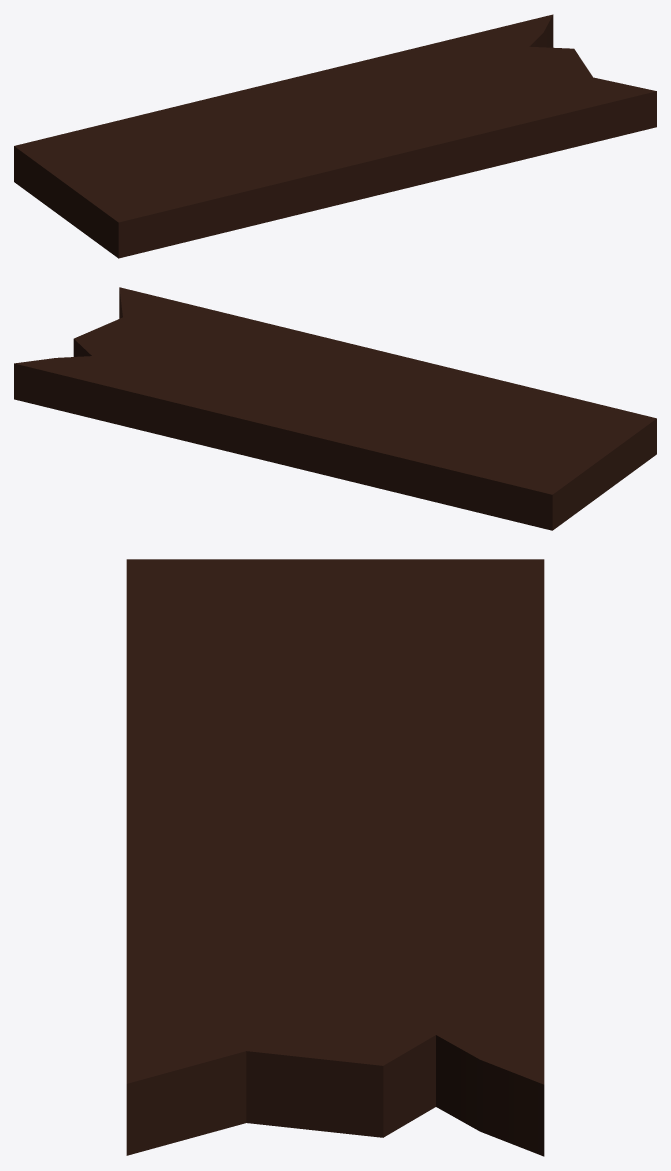
File: WoodenPlank_Broken01.FBX
3 views of the same model, one above another, from view 1: azimuth 30°, elevation 25°; view 2: azimuth 150°, elevation 25°; view 3: azimuth 270°, elevation 25° (orthographic). The views are drawn at different scales.
Visible parts, largest first — view 1: WoodenPlank_Broken; view 2: WoodenPlank_Broken; view 3: WoodenPlank_Broken.
Boxes of the visible parts, bbox=[...] form: WoodenPlank_Broken: bbox=[14, 14, 656, 258]; WoodenPlank_Broken: bbox=[14, 287, 656, 530]; WoodenPlank_Broken: bbox=[126, 559, 544, 1156].
Size of the model in its own units: 59.54 by 3.8 by 20.
